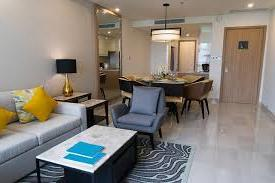chair: (110, 84, 167, 150), (182, 79, 214, 120), (114, 72, 145, 106), (154, 95, 182, 123), (181, 72, 205, 85)
door: (222, 24, 265, 98), (177, 42, 195, 72)
light: (148, 0, 187, 44), (55, 57, 76, 96), (112, 3, 122, 14), (246, 2, 255, 10)
sofa: (0, 85, 88, 183)
table: (35, 122, 141, 183), (137, 74, 189, 114), (82, 93, 109, 126)
